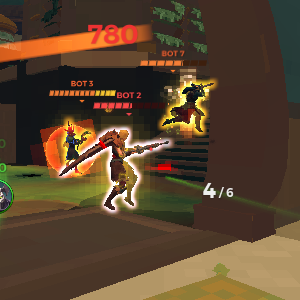model: (96, 123, 144, 210), (171, 76, 215, 135), (56, 119, 89, 182)
